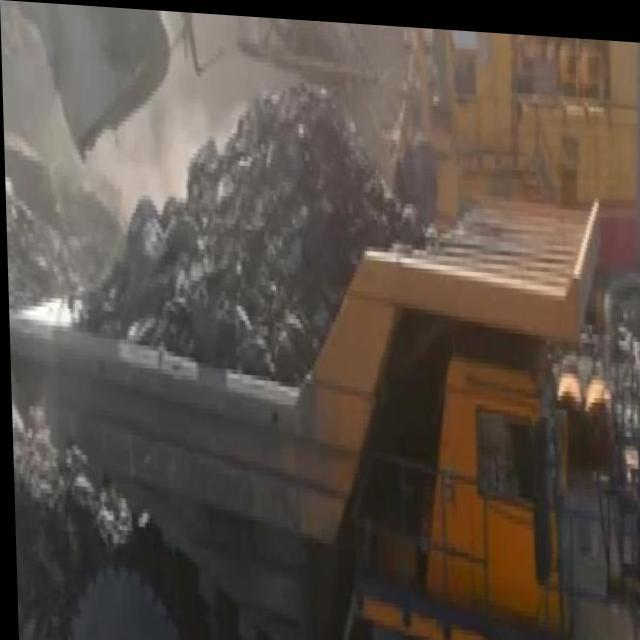uncovered: (87, 39, 626, 640)
